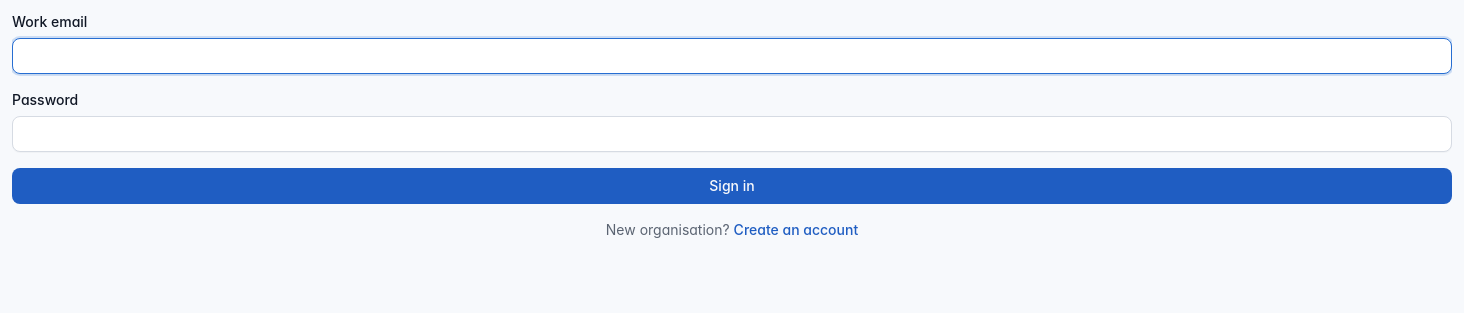
Test: LoginForm › shows the API error and redirects to the safe next path on success
The image size is (1464, 313).
Later steps or results of the test are not shown.
In the field labelled "Work email": (732, 56) [12, 38, 1452, 74], type "a@b.co"
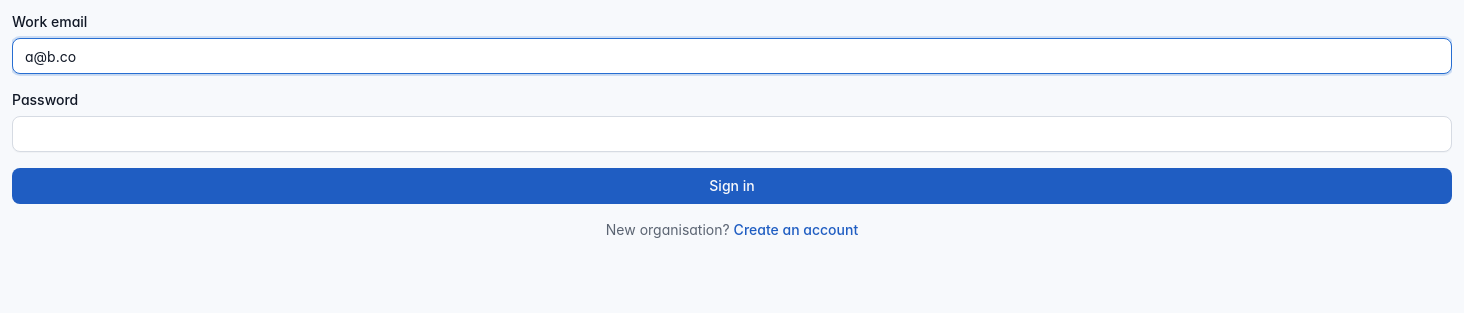
In the password field labelled "Password": (732, 134) [12, 116, 1452, 152], type "wrong-password"
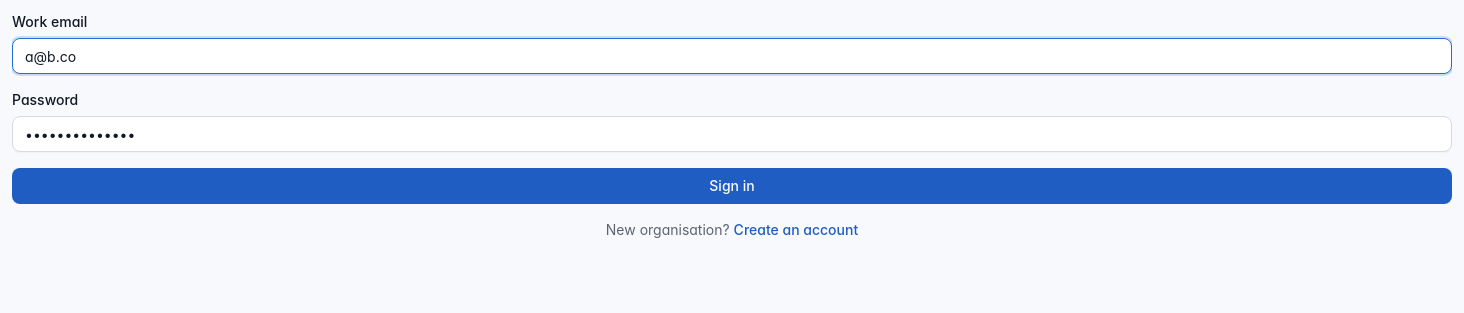
Click the button "Sign in": (732, 186) [12, 168, 1452, 204]
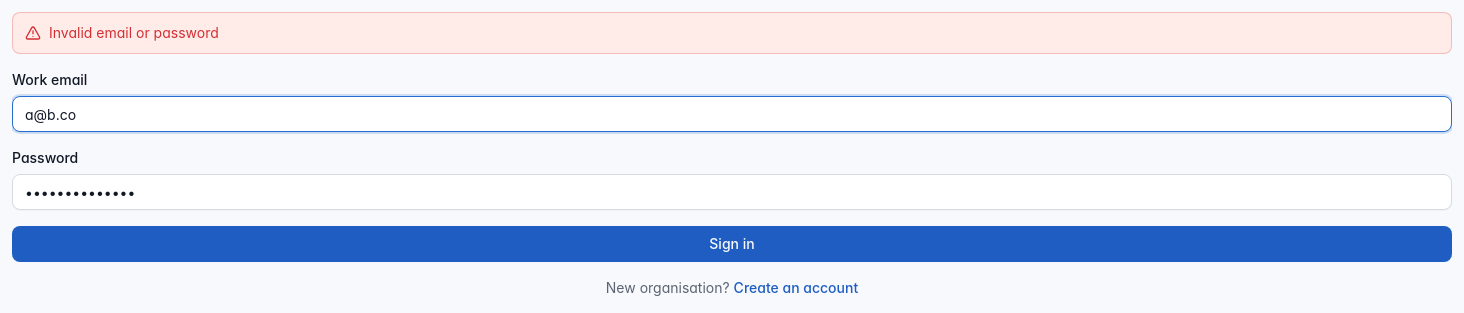
Expected: the message reads "Invalid email or password", [49, 24, 219, 41]
